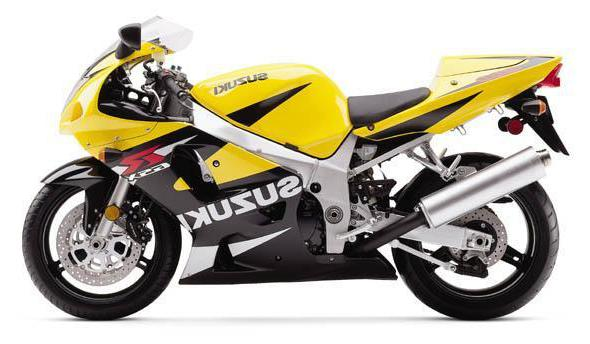motorcycle: (12, 6, 574, 335)
